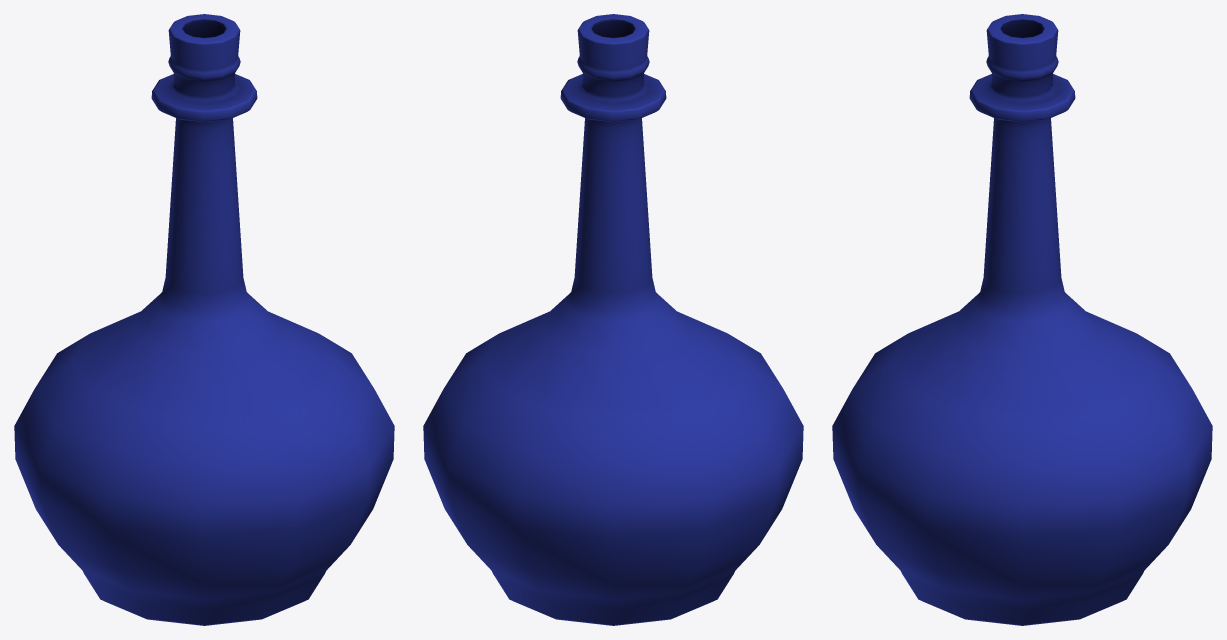
The model's file is Alchemy Bottle 7.fbx.
3 renders of one model, left to right at view 1: azimuth 30°, elevation 25°; view 2: azimuth 150°, elevation 25°; view 3: azimuth 270°, elevation 25°, orthographic.
Visible parts, largest first — view 1: Alchemy_Bottle_7; view 2: Alchemy_Bottle_7; view 3: Alchemy_Bottle_7.
Part boxes in pixels (x1,y1,x2,y2): Alchemy_Bottle_7: (14, 14, 394, 625); Alchemy_Bottle_7: (423, 14, 803, 625); Alchemy_Bottle_7: (832, 14, 1212, 625).
Size of the model in its own units: 18.24 by 29.14 by 18.24.
1 material, 1 textured.
